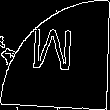M_S: (31, 28, 79, 82)
